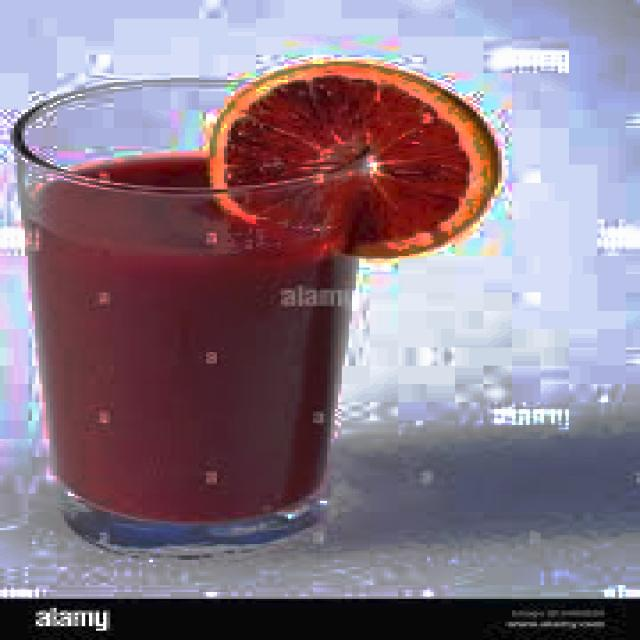drink: (11, 66, 359, 565)
